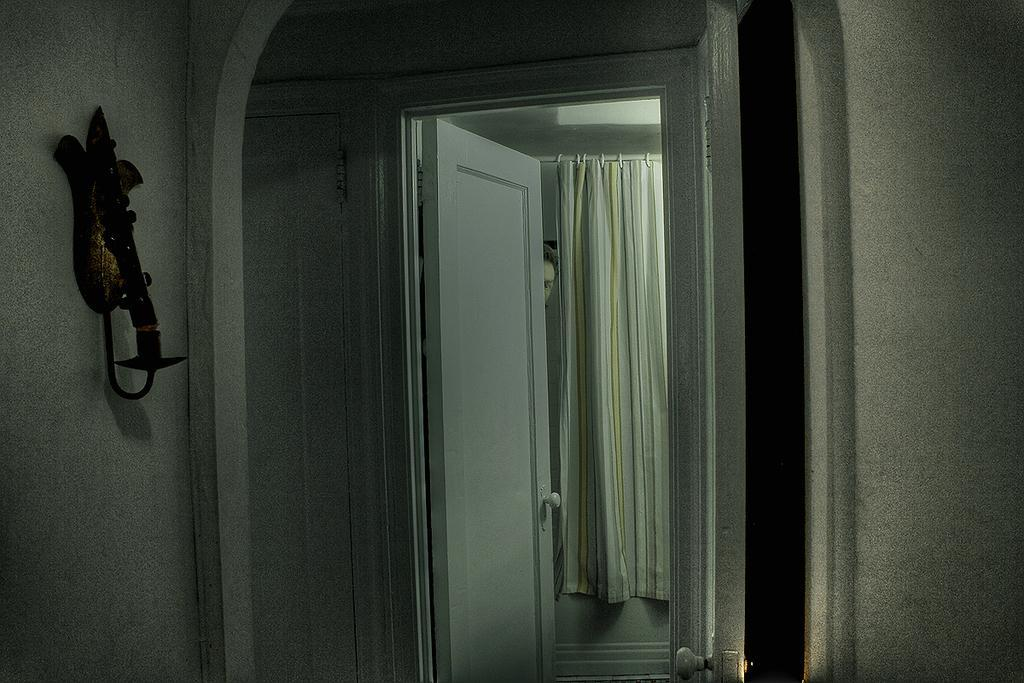door: (418, 115, 544, 683), (246, 130, 358, 682), (684, 52, 750, 674)
handle: (674, 639, 714, 683), (530, 483, 560, 528)
